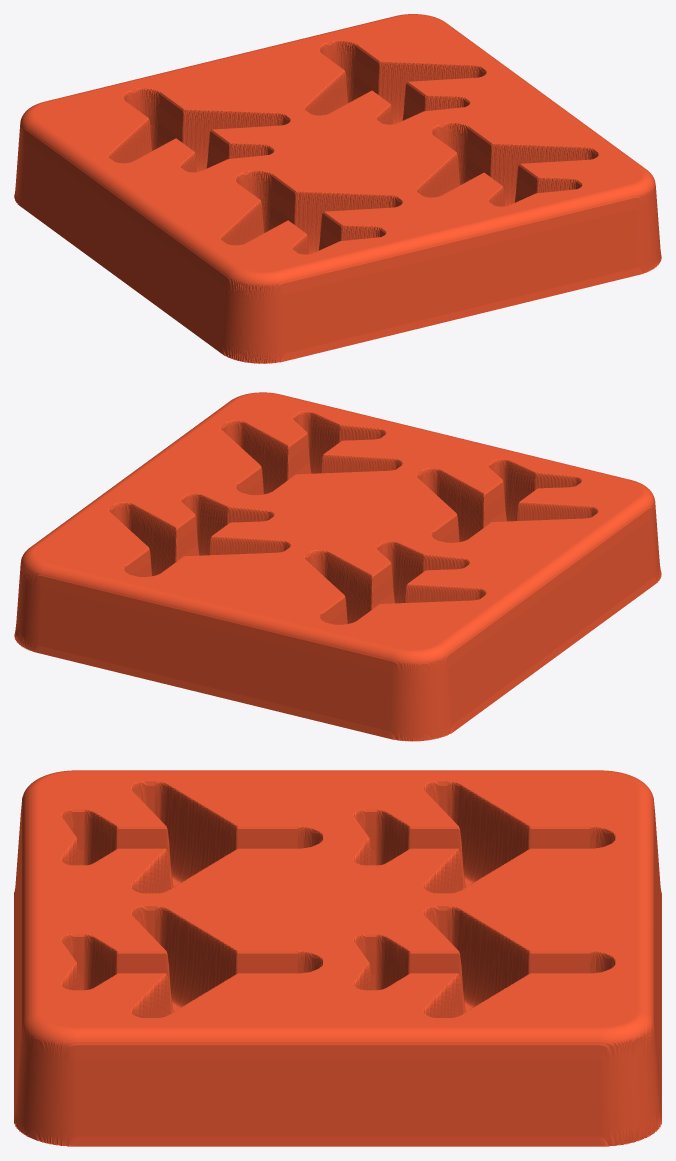
Rendered from mold.glb.
3 views of the same model, one above another, from view 1: azimuth 30°, elevation 25°; view 2: azimuth 150°, elevation 25°; view 3: azimuth 270°, elevation 25° (orthographic). The views are drawn at different scales.
Visible parts, largest first — view 1: geometry_0; view 2: geometry_0; view 3: geometry_0.
Boxes of the visible parts, x1,y1,x2,y2 form: geometry_0: (14,14,661,363); geometry_0: (14,392,661,741); geometry_0: (14,770,661,1146).
Bounding box in the file's own units: 0.0952 × 0.0175 × 0.0944.
